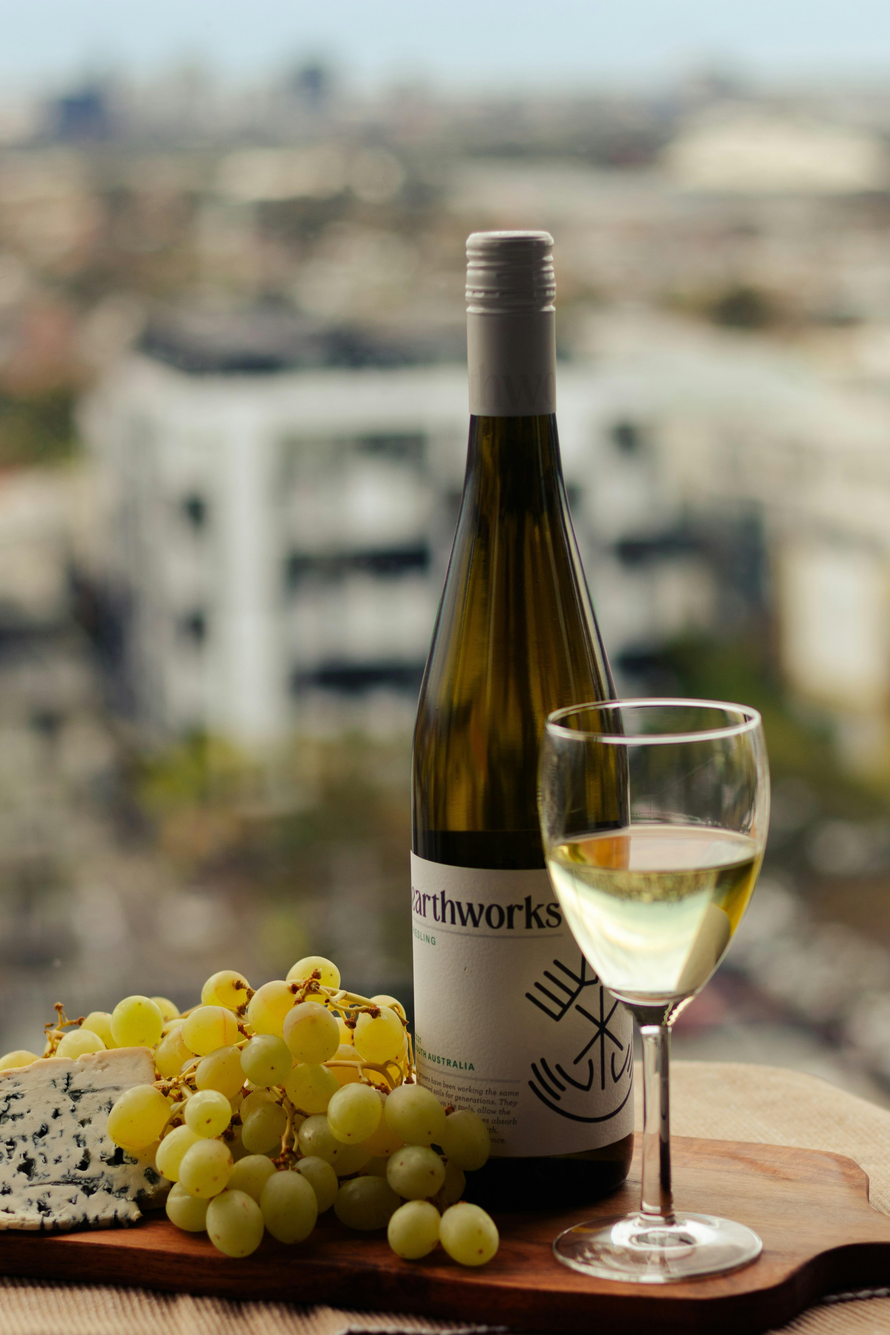Bottle-Detection: (346, 181, 658, 1235)
